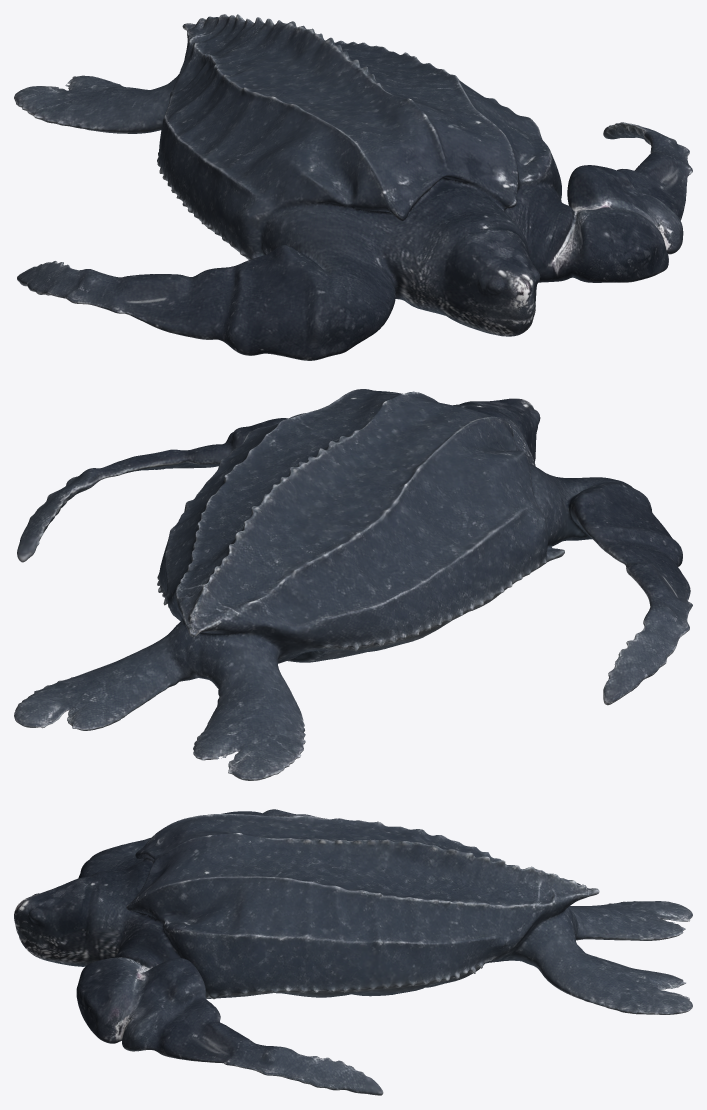
Rendered from tartaruga_de_couro.glb.
The picture shows the model from 3 angles, top to bottom: view 1: azimuth 30°, elevation 25°; view 2: azimuth 150°, elevation 25°; view 3: azimuth 270°, elevation 25°; orthographic projection. The views are drawn at different scales.
Bounding box in the file's own units: 1.75 × 0.4472 × 1.9.
1 material, 1 textured.
